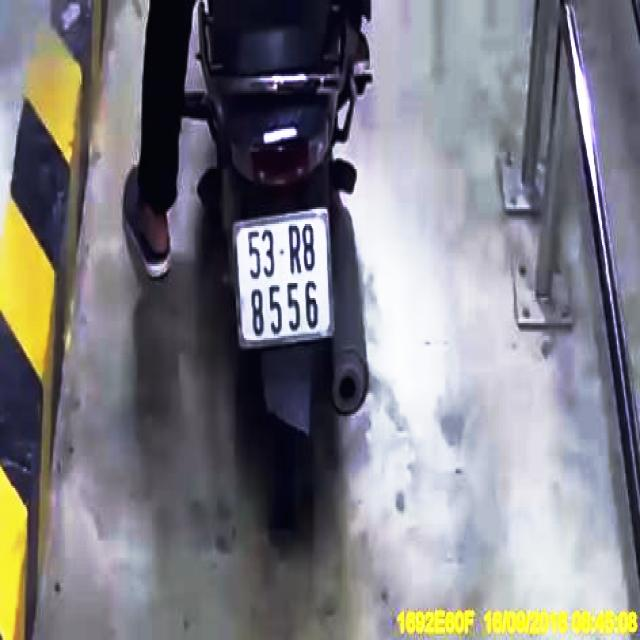license_plate: (236, 210, 332, 346)
